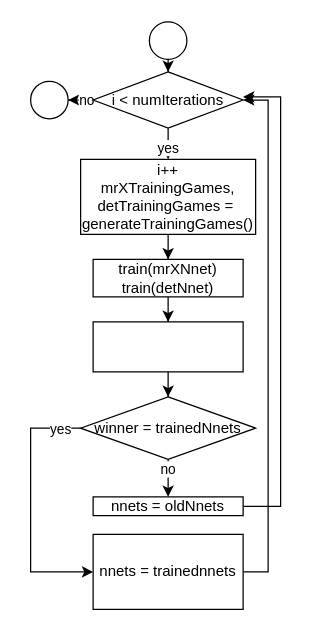
Image size: 313x631. Some labels were removed from this diagram. The shapes that lost their labels are listed below. From the top down, each one's box as (x1, y1, x2, y2) in pixels, then its label:
(148, 21, 187, 59): start
(29, 80, 68, 119): end
(92, 321, 243, 372): winner = pit(trainedNnet, oldNnet)
